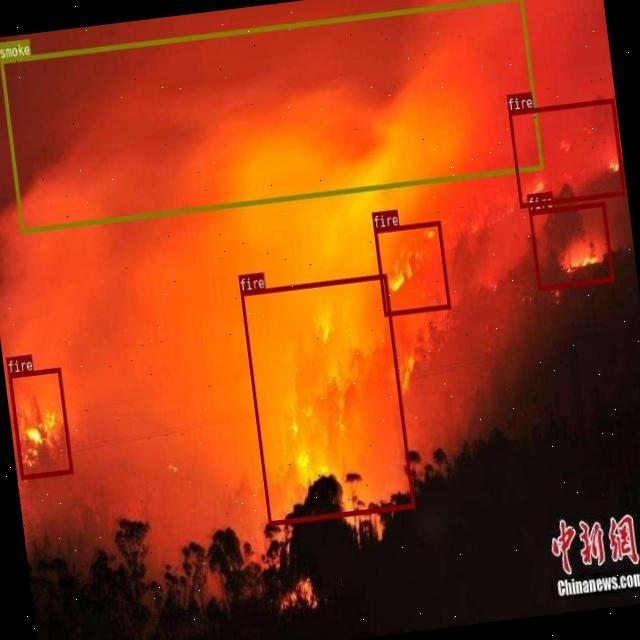fire: (238, 273, 414, 525), (507, 98, 625, 207), (528, 200, 613, 290), (7, 367, 73, 479), (374, 220, 451, 316)
smoke: (0, 0, 543, 232)
